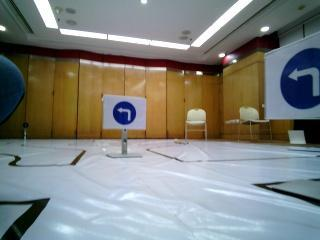left: (267, 44, 320, 120), (104, 98, 146, 126)
